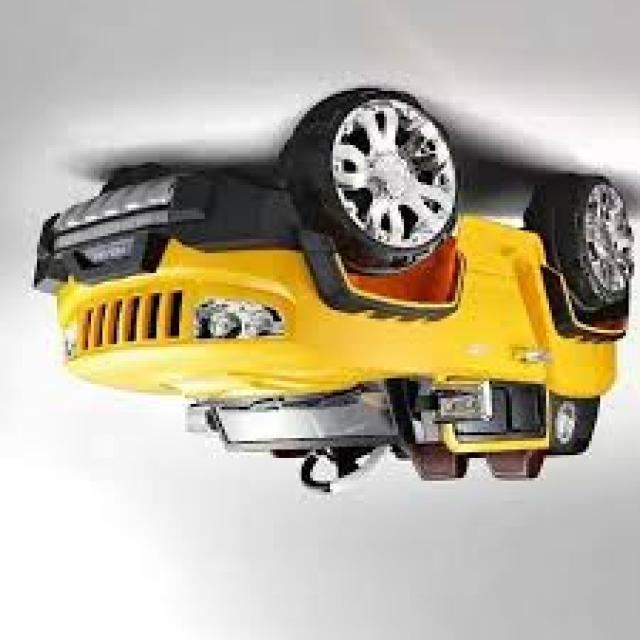Car: (34, 94, 631, 495)
